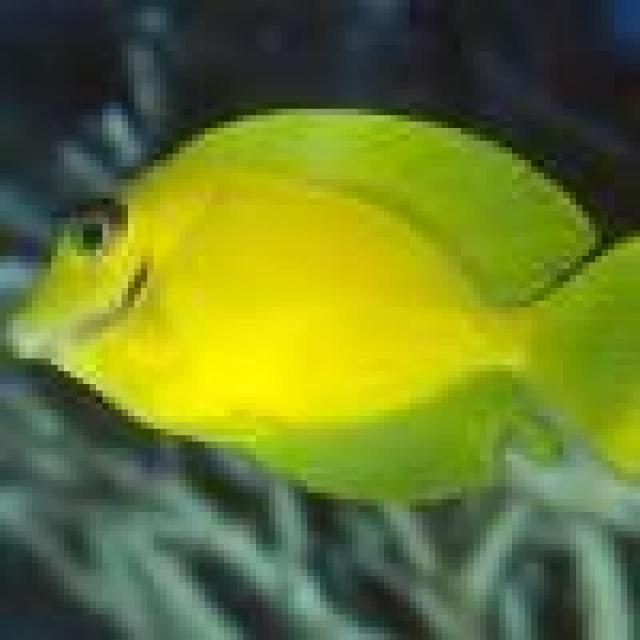YellowTang: (3, 93, 640, 534)
